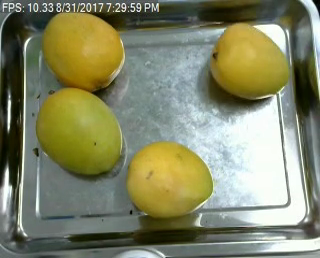Mango: (34, 87, 123, 174), (128, 141, 215, 218), (43, 13, 127, 90), (213, 21, 291, 98)
